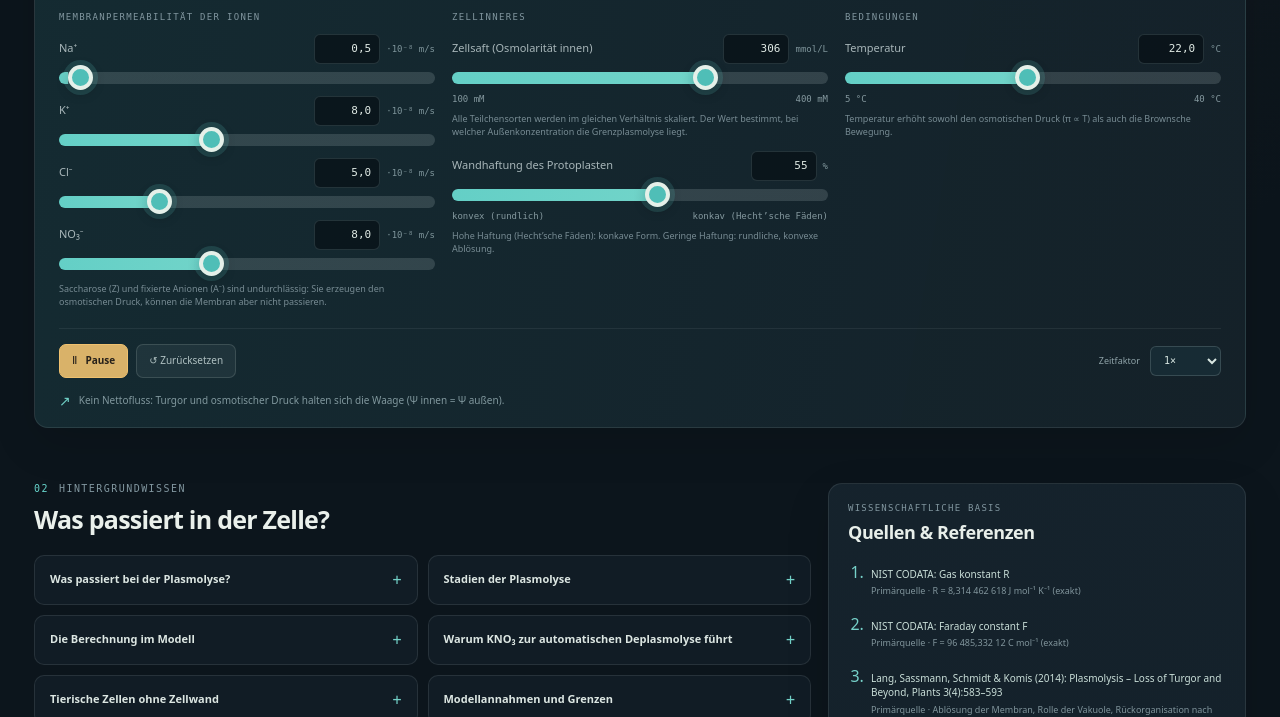
Benutzeroberfläche (Smoke-Test im jsdom) › startet und pausiert
(page scrolled)
Click the button "Ⅱ Pause". click: (94, 361)
box: [59,344,128,378]
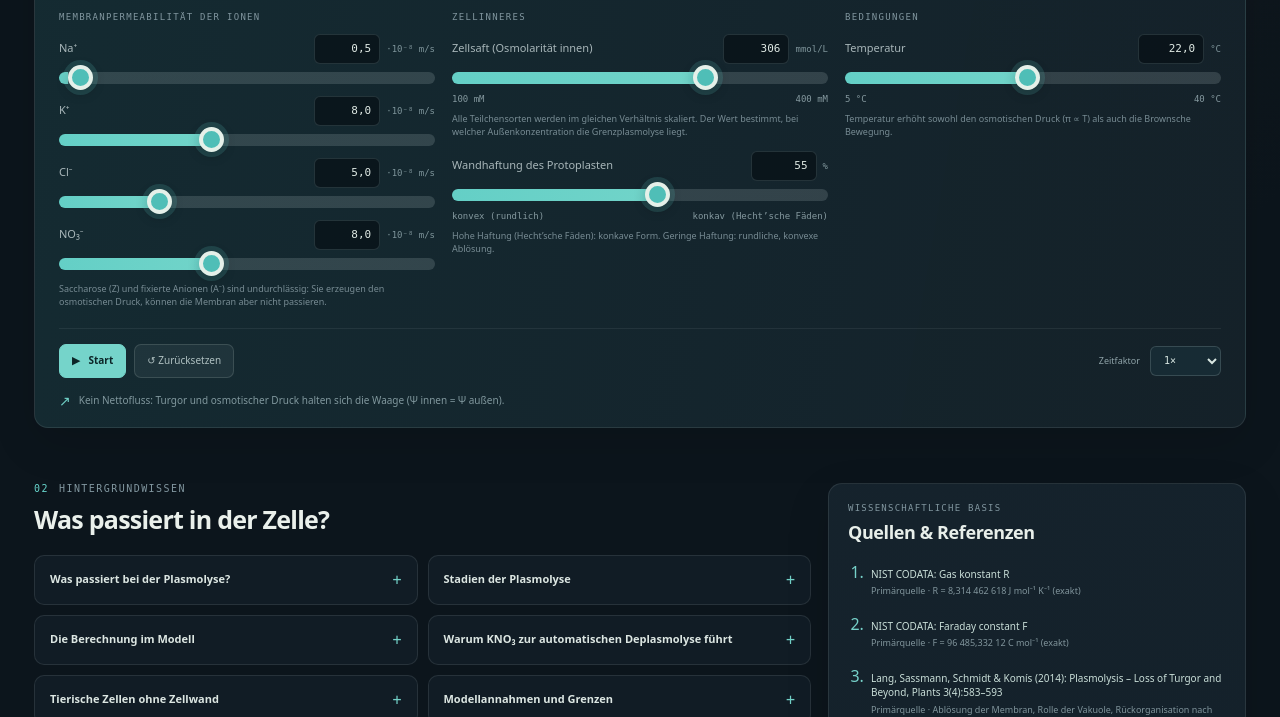
Now the button "▶ Start" is not pressed, box [59,344,126,378]
